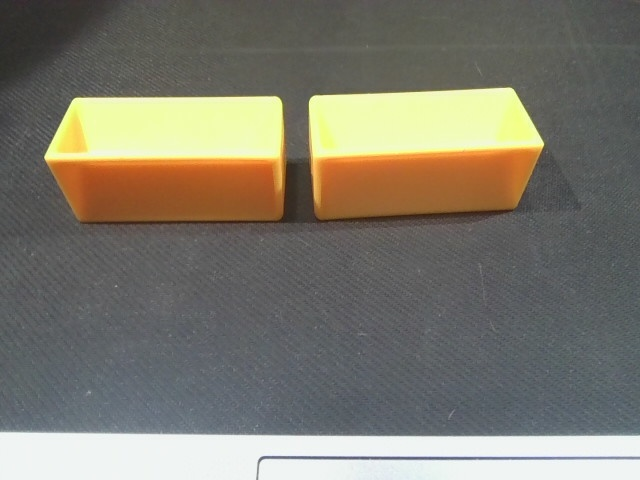YellowSample: (39, 93, 288, 231), (304, 85, 548, 223)
